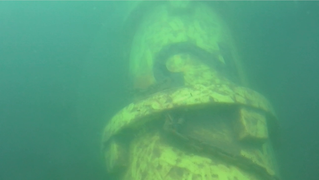2: (153, 41, 242, 89)
pipe: (99, 1, 280, 180)
